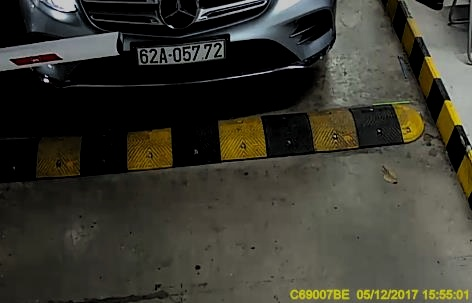plate: (138, 40, 225, 64)
